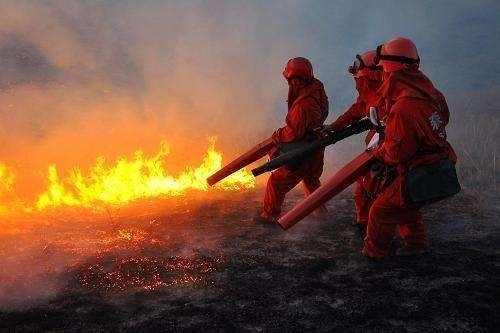fire: (0, 128, 245, 214)
